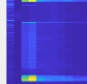leak: (19, 19, 39, 70)
